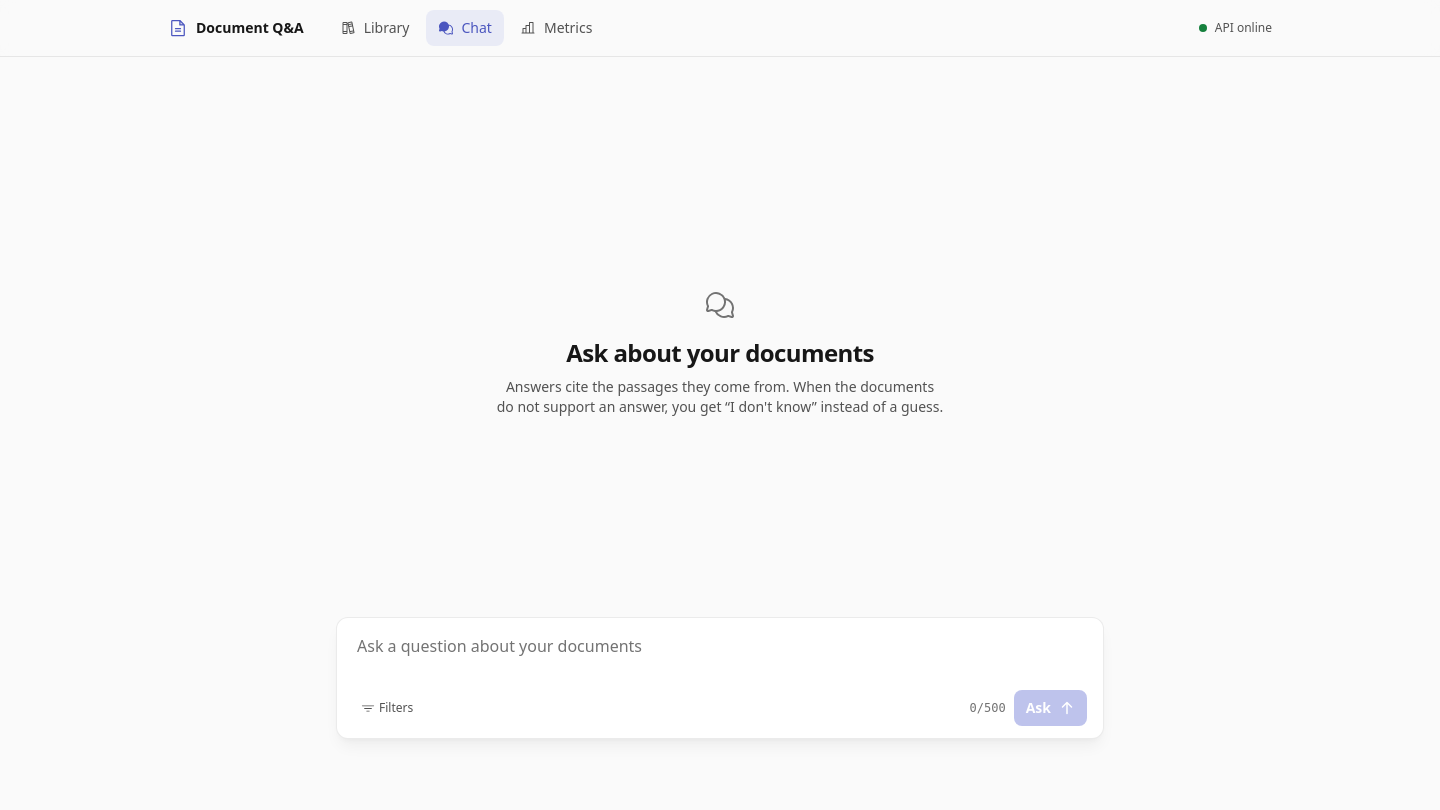
Scenario: asking › sends the question and shows the cited answer
Type "How do I install?" into the text box labelled "question" at (720, 658), box [345,626,1095,690]
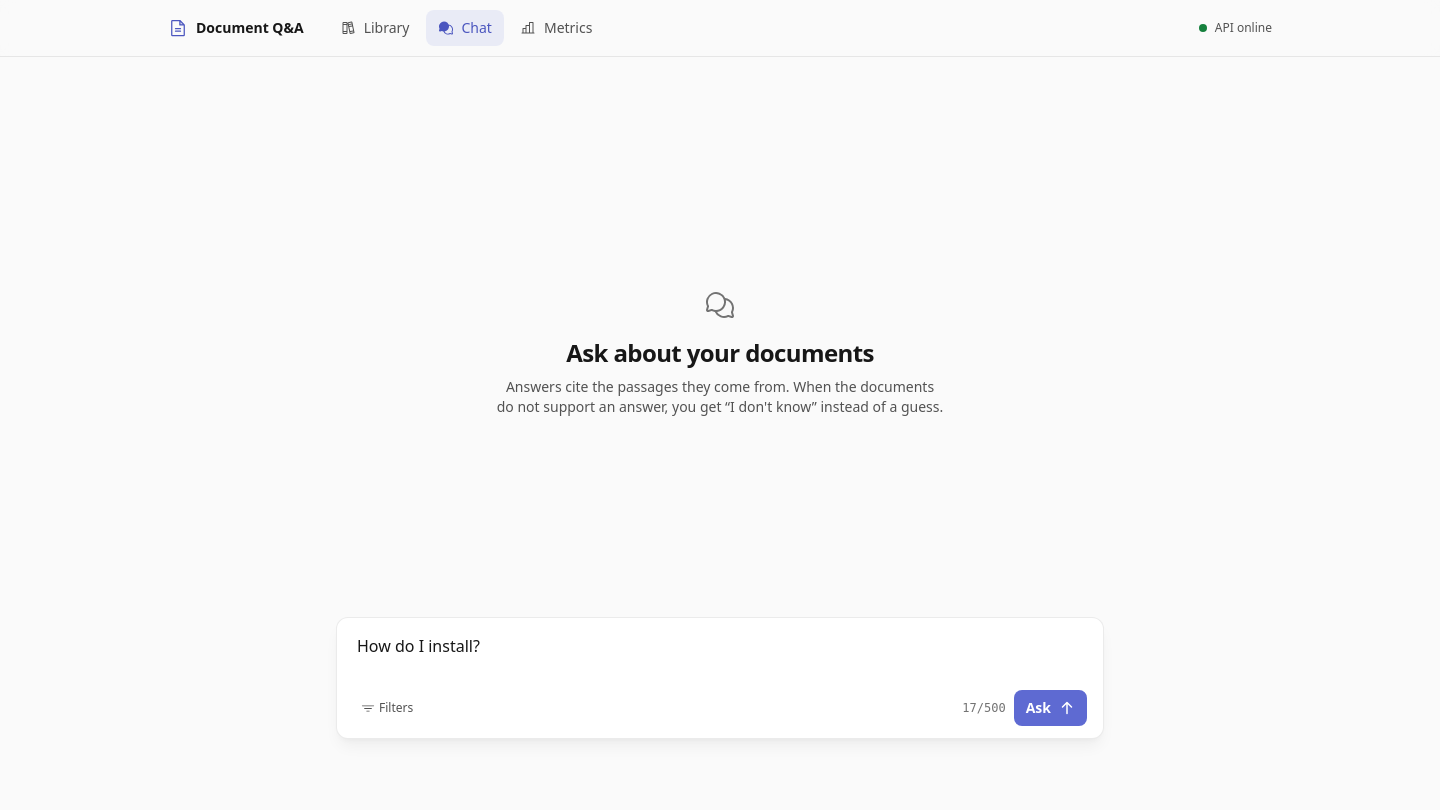
Click the button "Ask" at (1050, 708), box [1014,690,1087,726]
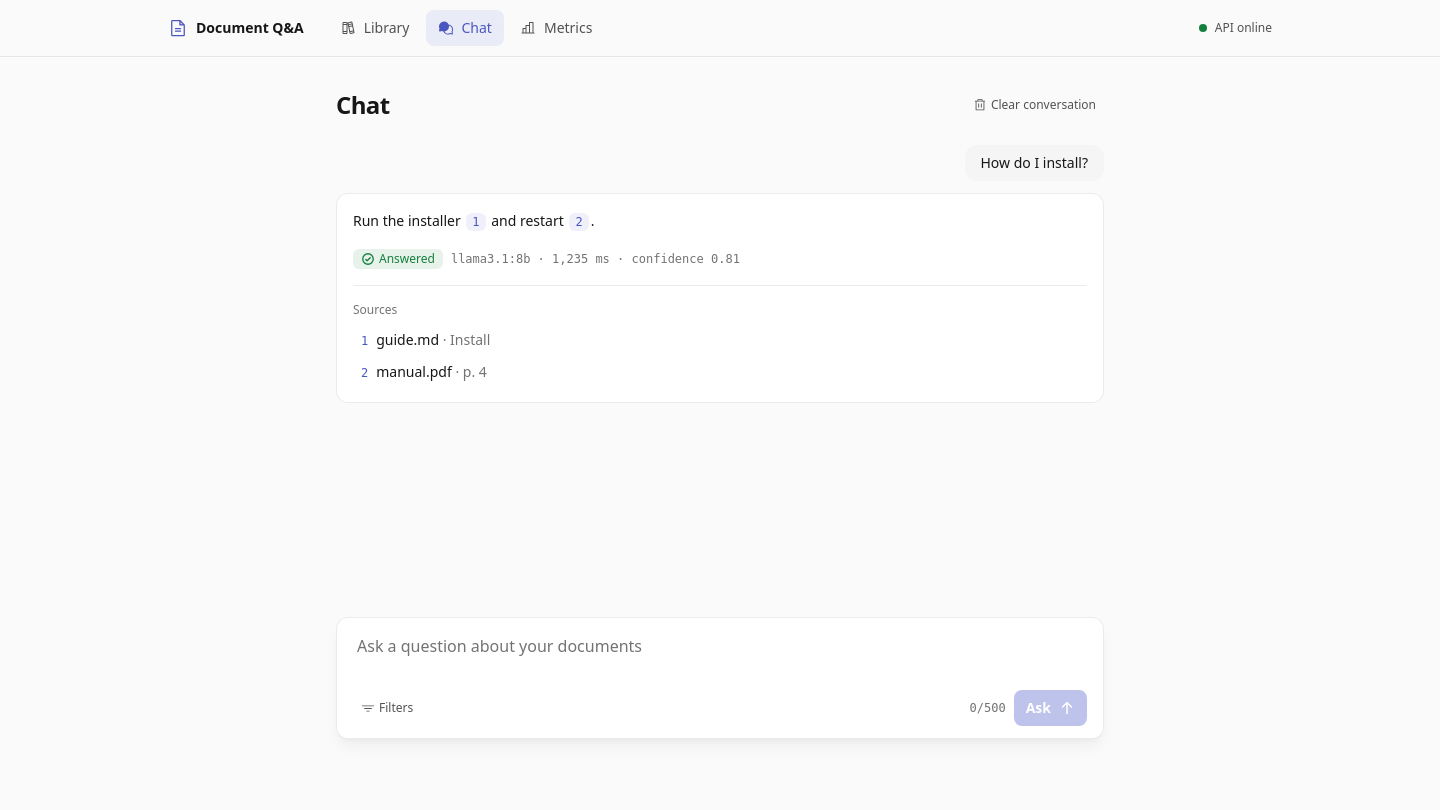
Now the text "Answered" is shown, box [353,249,443,269]
Now the text "llama3.1:8b · 1,235 ms · confidence 0.81" is shown, box [451,251,740,267]
Now the text box labelled "question" is empty, box [345,626,1095,690]
